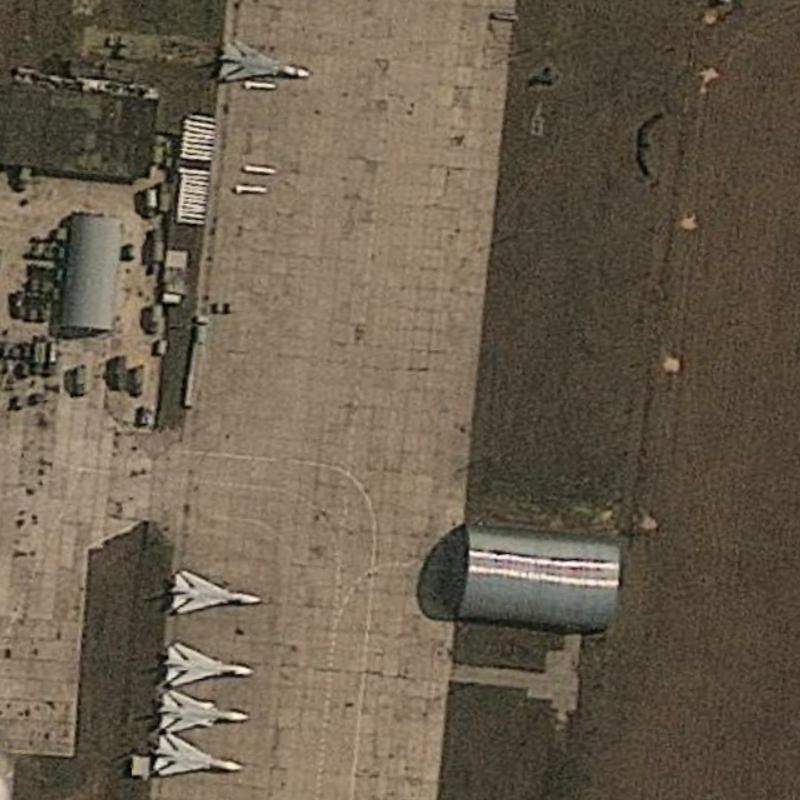A20: (165, 566, 263, 616), (160, 638, 255, 688), (153, 688, 251, 735), (215, 36, 311, 83), (151, 731, 244, 777)
